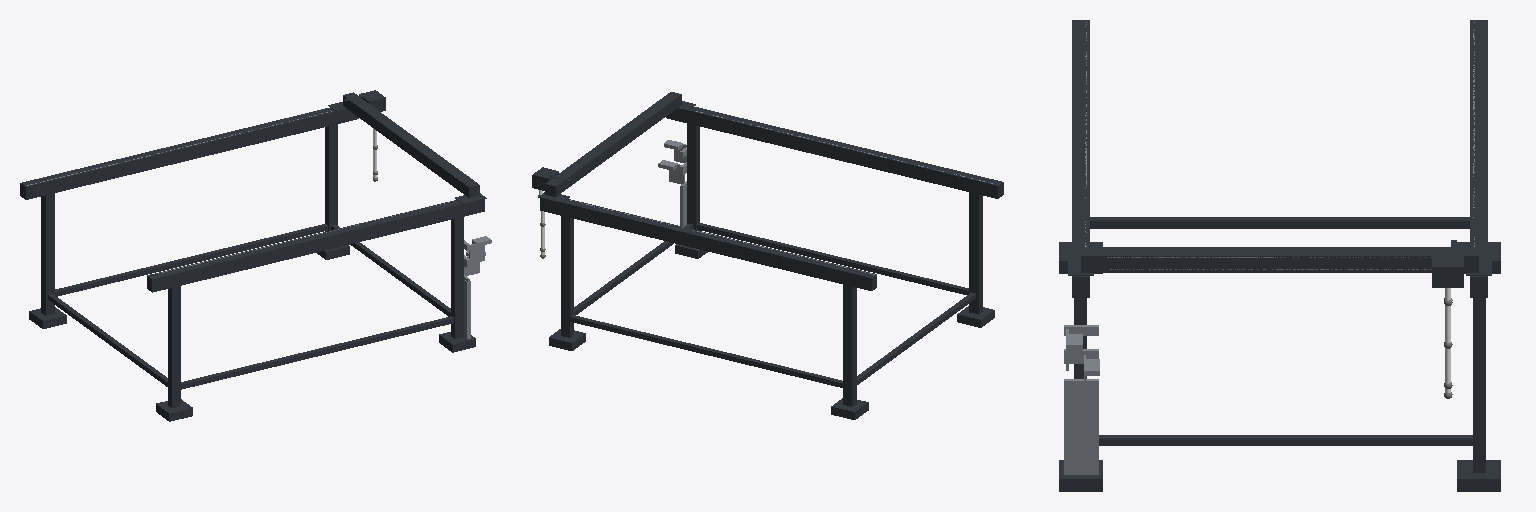
The robot description file, URDF, robot "paint_cell_8axis_x7y4z3":
<?xml version='1.0' encoding='utf-8'?>
<robot name="paint_cell_8axis_x7y4z3">
  <material name="cell_rail"><color rgba="0.55 0.57 0.60 1.0" /></material><material name="cell_frame"><color rgba="0.25 0.27 0.30 1.0" /></material><material name="black">
    <color rgba="0.0 0.0 0.0 1.0" />
  </material>
  <material name="white">
    <color rgba="1.0 1.0 1.0 1.0" />
  </material>
  <material name="orange">
    <color rgba="1.0 0.4 0.0 1.0" />
  </material>
  <material name="dr_gray">
    <color rgba="0.490 0.490 0.486 1.0" />
  </material>
  <material name="dr_white">
    <color rgba="0.941 0.941 0.941 1.0" />
  </material>
  <material name="dr_blue">
    <color rgba="0 0 0.15 1" />
  </material>
  <link name="base_link">
    <inertial>
      <mass value="3.635" />
      <origin xyz="4e-06   -0.001016     0.08181" />
      <inertia ixx="0.02216" ixy="5.8001e-06" ixz="6.1941e-06" iyy="0.024835" iyz="-5.3034e-05" izz="0.021063" />
    </inertial>
    <visual><origin xyz="0.000000 0.000000 0.097500" rpy="0.000000 0.000000 0.000000" /><geometry><cylinder length="0.195000" radius="0.035000" /></geometry><material name="dr_white" /></visual><visual><origin xyz="0.000000 0.000000 0.195000" rpy="0.000000 0.000000 0.000000" /><geometry><sphere radius="0.050000" /></geometry><material name="dr_gray" /></visual><visual><origin xyz="0.000000 0.000000 0.000000" rpy="0.000000 0.000000 0.000000" /><geometry><sphere radius="0.030000" /></geometry><material name="dr_gray" /></visual></link>
  
  <joint name="joint_1" type="revolute">
    <parent link="base_link" />
    <child link="link_1" />
    <origin rpy="0 0 0" xyz="0 0 0.195" />
    <axis xyz="0 0 1" />
    <limit effort="411" lower="-6.2832" upper="6.2832" velocity="3.1416" />
    <dynamics friction="0" />
  </joint>
  <link name="link_1">
    <inertial>
      <mass value="7.863" />
      <origin xyz="4.4e-05    0.029982    -0.01112" />
      <inertia ixx="0.045839" ixy="1.2759e-05" ixz="-3.6168e-05" iyy="0.032913" iyz="-0.0029965" izz="0.044399" />
    </inertial>
    <visual><origin xyz="0.000000 0.019500 0.000000" rpy="0.000000 1.570796 1.570796" /><geometry><cylinder length="0.039000" radius="0.035000" /></geometry><material name="dr_white" /></visual><visual><origin xyz="0.000000 0.039000 0.000000" rpy="0.000000 0.000000 0.000000" /><geometry><sphere radius="0.050000" /></geometry><material name="dr_gray" /></visual><visual><origin xyz="0.000000 0.000000 0.000000" rpy="0.000000 0.000000 0.000000" /><geometry><sphere radius="0.030000" /></geometry><material name="dr_gray" /></visual></link>
  
  <joint name="joint_2" type="revolute">
    <parent link="link_1" />
    <child link="link_2" />
    <origin rpy="0 -1.571 -1.571" xyz="0 0.039 0" />
    <axis xyz="0 0 1" />
    <limit effort="411" lower="-6.2832" upper="6.2832" velocity="3.1416" />
    <dynamics friction="0" />
  </joint>
  <link name="link_2">
    <inertial>
      <mass value="10.985" />
      <origin xyz="0.19748    0.001426     0.13191" />
      <inertia ixx="0.04446" ixy="-0.0049948" ixz="-0.010992" iyy="0.67642" iyz="-2.8483e-05" izz="0.67428" />
    </inertial>
    <visual><origin xyz="0.280000 0.000000 0.000000" rpy="0.000000 1.570796 0.000000" /><geometry><cylinder length="0.560000" radius="0.035000" /></geometry><material name="dr_white" /></visual><visual><origin xyz="0.560000 0.000000 0.000000" rpy="0.000000 0.000000 0.000000" /><geometry><sphere radius="0.050000" /></geometry><material name="dr_gray" /></visual><visual><origin xyz="0.000000 0.000000 0.000000" rpy="0.000000 0.000000 0.000000" /><geometry><sphere radius="0.030000" /></geometry><material name="dr_gray" /></visual></link>
  
  <joint name="joint_3" type="revolute">
    <parent link="link_2" />
    <child link="link_3" />
    <origin rpy="0 0 1.571" xyz="0.56 0 0" />
    <axis xyz="0 0 1" />
    <limit effort="194" lower="-2.7925" upper="2.7925" velocity="3.1416" />
    <dynamics friction="0" />
  </joint>
  <link name="link_3">
    <inertial>
      <mass value="2.881" />
      <origin xyz="8.5e-05   -0.002513    0.032058" />
      <inertia ixx="0.012756" ixy="-5.4257e-06" ixz="1.6402e-05" iyy="0.011416" iyz="-0.0001989" izz="0.0080652" />
    </inertial>
    <visual><origin xyz="0.000000 -0.258000 0.000000" rpy="0.000000 1.570796 -1.570796" /><geometry><cylinder length="0.516000" radius="0.035000" /></geometry><material name="dr_white" /></visual><visual><origin xyz="0.000000 -0.516000 0.000000" rpy="0.000000 0.000000 0.000000" /><geometry><sphere radius="0.050000" /></geometry><material name="dr_gray" /></visual><visual><origin xyz="0.000000 0.000000 0.000000" rpy="0.000000 0.000000 0.000000" /><geometry><sphere radius="0.030000" /></geometry><material name="dr_gray" /></visual></link>
  
  <joint name="joint_4" type="revolute">
    <parent link="link_3" />
    <child link="link_4" />
    <origin rpy="1.571 0 0" xyz="0 -0.516 0" />
    <axis xyz="0 0 1" />
    <limit effort="50" lower="-6.2832" upper="6.2832" velocity="6.2832" />
    <dynamics friction="0" />
  </joint>
  <link name="link_4">
    <inertial>
      <mass value="3.273" />
      <origin xyz="-9.6e-05    0.085314    -0.13975" />
      <inertia ixx="0.12246" ixy="2.3905e-05" ixz="2.5022e-05" iyy="0.11307" iyz="-0.027995" izz="0.017186" />
    </inertial>
    <visual><origin xyz="0.000000 0.000000 0.000000" rpy="0.000000 0.000000 0.000000" /><geometry><sphere radius="0.030000" /></geometry><material name="dr_gray" /></visual></link>
  
  <joint name="joint_5" type="revolute">
    <parent link="link_4" />
    <child link="link_5" />
    <origin rpy="-1.571 0 0" xyz="0 0 0" />
    <axis xyz="0 0 1" />
    <limit effort="50" lower="-6.2832" upper="6.2832" velocity="6.2832" />
    <dynamics friction="0" />
  </joint>
  <link name="link_5">
    <inertial>
      <mass value="2.141" />
      <origin xyz="0.000109   -0.003286     0.01477" />
      <inertia ixx="0.013145" ixy="-4.7132e-06" ixz="8.5804e-06" iyy="0.0073072" iyz="-5.999e-05" izz="0.0090476" />
    </inertial>
    <visual><origin xyz="0.000000 -0.062000 0.000000" rpy="0.000000 1.570796 -1.570796" /><geometry><cylinder length="0.124000" radius="0.035000" /></geometry><material name="dr_white" /></visual><visual><origin xyz="0.000000 -0.124000 0.000000" rpy="0.000000 0.000000 0.000000" /><geometry><sphere radius="0.050000" /></geometry><material name="dr_gray" /></visual><visual><origin xyz="0.000000 0.000000 0.000000" rpy="0.000000 0.000000 0.000000" /><geometry><sphere radius="0.030000" /></geometry><material name="dr_gray" /></visual></link>
  
  <joint name="joint_6" type="revolute">
    <parent link="link_5" />
    <child link="link_6" />
    <origin rpy="1.571 0 0" xyz="0 -0.124 0" />
    <axis xyz="0 0 1" />
    <limit effort="50" lower="-6.2832" upper="6.2832" velocity="6.2832" />
    <dynamics friction="0" />
  </joint>
  <link name="link_6">
    <inertial>
      <mass value="0.784" />
      <origin xyz="-1.9e-05      -6e-06    -0.05227" />
      <inertia ixx="0.0067403" ixy="5.2373e-06" ixz="2.4957e-06" iyy="0.0048015" iyz="8.3671e-06" izz="0.0059696" />
    </inertial>
    <visual><origin xyz="0.000000 0.000000 0.000000" rpy="0.000000 0.000000 0.000000" /><geometry><sphere radius="0.030000" /></geometry><material name="dr_gray" /></visual></link>
<link name="world_base"><visual><origin xyz="-2.977000 -2.300000 0.082500" rpy="0.000000 0.000000 0.000000" /><geometry><box size="0.500000 0.500000 0.165000" /></geometry><material name="cell_frame" /></visual><visual><origin xyz="-2.977000 -2.300000 1.381750" rpy="0.000000 0.000000 0.000000" /><geometry><box size="0.194000 0.150000 2.433500" /></geometry><material name="cell_frame" /></visual><visual><origin xyz="-2.977000 2.300000 0.082500" rpy="0.000000 0.000000 0.000000" /><geometry><box size="0.500000 0.500000 0.165000" /></geometry><material name="cell_frame" /></visual><visual><origin xyz="-2.977000 2.300000 1.381750" rpy="0.000000 0.000000 0.000000" /><geometry><box size="0.194000 0.150000 2.433500" /></geometry><material name="cell_frame" /></visual><visual><origin xyz="2.977000 -2.300000 0.082500" rpy="0.000000 0.000000 0.000000" /><geometry><box size="0.500000 0.500000 0.165000" /></geometry><material name="cell_frame" /></visual><visual><origin xyz="2.977000 -2.300000 1.381750" rpy="0.000000 0.000000 0.000000" /><geometry><box size="0.194000 0.150000 2.433500" /></geometry><material name="cell_frame" /></visual><visual><origin xyz="2.977000 2.300000 0.082500" rpy="0.000000 0.000000 0.000000" /><geometry><box size="0.500000 0.500000 0.165000" /></geometry><material name="cell_frame" /></visual><visual><origin xyz="2.977000 2.300000 1.381750" rpy="0.000000 0.000000 0.000000" /><geometry><box size="0.194000 0.150000 2.433500" /></geometry><material name="cell_frame" /></visual><visual><origin xyz="0.000000 -2.300000 2.732500" rpy="0.000000 0.000000 0.000000" /><geometry><box size="7.000000 0.200000 0.268000" /></geometry><material name="cell_frame" /></visual><visual><origin xyz="0.000000 -2.238500 2.855500" rpy="0.000000 0.000000 0.000000" /><geometry><box size="7.000000 0.023000 0.022000" /></geometry><material name="cell_rail" /></visual><visual><origin xyz="0.000000 2.300000 2.732500" rpy="0.000000 0.000000 0.000000" /><geometry><box size="7.000000 0.200000 0.268000" /></geometry><material name="cell_frame" /></visual><visual><origin xyz="0.000000 2.238500 2.855500" rpy="0.000000 0.000000 0.000000" /><geometry><box size="7.000000 0.023000 0.022000" /></geometry><material name="cell_rail" /></visual><visual><origin xyz="0.000000 -2.300000 0.531000" rpy="0.000000 0.000000 0.000000" /><geometry><box size="5.760000 0.100000 0.100000" /></geometry><material name="cell_frame" /></visual><visual><origin xyz="0.000000 2.300000 0.531000" rpy="0.000000 0.000000 0.000000" /><geometry><box size="5.760000 0.100000 0.100000" /></geometry><material name="cell_frame" /></visual><visual><origin xyz="-2.977000 0.000000 0.531000" rpy="0.000000 0.000000 0.000000" /><geometry><box size="0.100000 4.450000 0.100000" /></geometry><material name="cell_frame" /></visual><visual><origin xyz="2.977000 0.000000 0.531000" rpy="0.000000 0.000000 0.000000" /><geometry><box size="0.100000 4.450000 0.100000" /></geometry><material name="cell_frame" /></visual><visual><origin xyz="3.437000 -2.173000 1.673986" rpy="0.000000 0.000000 0.000000" /><geometry><box size="0.310000 0.190000 0.073000" /></geometry><material name="cell_rail" /></visual><visual><origin xyz="3.104000 -2.293000 1.340500" rpy="0.000000 0.000000 0.000000" /><geometry><box size="0.050000 0.400000 0.050000" /></geometry><material name="cell_rail" /></visual><visual><origin xyz="3.104000 -2.293000 1.667486" rpy="0.000000 0.000000 0.000000" /><geometry><box size="0.070000 0.400000 0.162430" /></geometry><material name="cell_rail" /></visual><visual><origin xyz="3.104000 -2.293000 1.994473" rpy="0.000000 0.000000 0.000000" /><geometry><box size="0.070000 0.400000 0.110000" /></geometry><material name="cell_rail" /></visual><visual><origin xyz="3.298100 -2.253000 1.478387" rpy="0.000000 0.000000 0.000000" /><geometry><box size="0.318198 0.030000 0.318198" /></geometry><material name="cell_rail" /></visual><visual><origin xyz="3.364000 -2.253000 1.667486" rpy="0.000000 0.000000 0.000000" /><geometry><box size="0.450000 0.030000 0.060000" /></geometry><material name="cell_rail" /></visual><visual><origin xyz="3.437000 -2.373000 2.000973" rpy="0.000000 0.000000 0.000000" /><geometry><box size="0.310000 0.190000 0.073000" /></geometry><material name="cell_rail" /></visual><visual><origin xyz="3.298100 -2.453000 1.805374" rpy="0.000000 0.000000 0.000000" /><geometry><box size="0.318198 0.030000 0.318198" /></geometry><material name="cell_rail" /></visual><visual><origin xyz="3.364000 -2.453000 1.994473" rpy="0.000000 0.000000 0.000000" /><geometry><box size="0.450000 0.030000 0.060000" /></geometry><material name="cell_rail" /></visual><visual><origin xyz="3.104000 -2.293000 0.657750" rpy="0.000000 0.000000 0.000000" /><geometry><box size="0.070000 0.400000 1.315500" /></geometry><material name="cell_rail" /></visual><collision><origin xyz="-2.977000 -2.300000 0.082500" rpy="0.000000 0.000000 0.000000" /><geometry><box size="0.500000 0.500000 0.165000" /></geometry></collision><collision><origin xyz="-2.977000 -2.300000 1.381750" rpy="0.000000 0.000000 0.000000" /><geometry><box size="0.194000 0.150000 2.433500" /></geometry></collision><collision><origin xyz="-2.977000 2.300000 0.082500" rpy="0.000000 0.000000 0.000000" /><geometry><box size="0.500000 0.500000 0.165000" /></geometry></collision><collision><origin xyz="-2.977000 2.300000 1.381750" rpy="0.000000 0.000000 0.000000" /><geometry><box size="0.194000 0.150000 2.433500" /></geometry></collision><collision><origin xyz="2.977000 -2.300000 0.082500" rpy="0.000000 0.000000 0.000000" /><geometry><box size="0.500000 0.500000 0.165000" /></geometry></collision><collision><origin xyz="2.977000 -2.300000 1.381750" rpy="0.000000 0.000000 0.000000" /><geometry><box size="0.194000 0.150000 2.433500" /></geometry></collision><collision><origin xyz="2.977000 2.300000 0.082500" rpy="0.000000 0.000000 0.000000" /><geometry><box size="0.500000 0.500000 0.165000" /></geometry></collision><collision><origin xyz="2.977000 2.300000 1.381750" rpy="0.000000 0.000000 0.000000" /><geometry><box size="0.194000 0.150000 2.433500" /></geometry></collision><collision><origin xyz="0.000000 -2.300000 2.732500" rpy="0.000000 0.000000 0.000000" /><geometry><box size="7.000000 0.200000 0.268000" /></geometry></collision><collision><origin xyz="0.000000 -2.238500 2.855500" rpy="0.000000 0.000000 0.000000" /><geometry><box size="7.000000 0.023000 0.022000" /></geometry></collision><collision><origin xyz="0.000000 2.300000 2.732500" rpy="0.000000 0.000000 0.000000" /><geometry><box size="7.000000 0.200000 0.268000" /></geometry></collision><collision><origin xyz="0.000000 2.238500 2.855500" rpy="0.000000 0.000000 0.000000" /><geometry><box size="7.000000 0.023000 0.022000" /></geometry></collision><collision><origin xyz="0.000000 -2.300000 0.531000" rpy="0.000000 0.000000 0.000000" /><geometry><box size="5.760000 0.100000 0.100000" /></geometry></collision><collision><origin xyz="0.000000 2.300000 0.531000" rpy="0.000000 0.000000 0.000000" /><geometry><box size="5.760000 0.100000 0.100000" /></geometry></collision><collision><origin xyz="-2.977000 0.000000 0.531000" rpy="0.000000 0.000000 0.000000" /><geometry><box size="0.100000 4.450000 0.100000" /></geometry></collision><collision><origin xyz="2.977000 0.000000 0.531000" rpy="0.000000 0.000000 0.000000" /><geometry><box size="0.100000 4.450000 0.100000" /></geometry></collision><collision><origin xyz="3.437000 -2.173000 1.673986" rpy="0.000000 0.000000 0.000000" /><geometry><box size="0.310000 0.190000 0.073000" /></geometry></collision><collision><origin xyz="3.104000 -2.293000 1.340500" rpy="0.000000 0.000000 0.000000" /><geometry><box size="0.050000 0.400000 0.050000" /></geometry></collision><collision><origin xyz="3.104000 -2.293000 1.667486" rpy="0.000000 0.000000 0.000000" /><geometry><box size="0.070000 0.400000 0.162430" /></geometry></collision><collision><origin xyz="3.104000 -2.293000 1.994473" rpy="0.000000 0.000000 0.000000" /><geometry><box size="0.070000 0.400000 0.110000" /></geometry></collision><collision><origin xyz="3.298100 -2.253000 1.478387" rpy="0.000000 0.000000 0.000000" /><geometry><box size="0.318198 0.030000 0.318198" /></geometry></collision><collision><origin xyz="3.364000 -2.253000 1.667486" rpy="0.000000 0.000000 0.000000" /><geometry><box size="0.450000 0.030000 0.060000" /></geometry></collision><collision><origin xyz="3.437000 -2.373000 2.000973" rpy="0.000000 0.000000 0.000000" /><geometry><box size="0.310000 0.190000 0.073000" /></geometry></collision><collision><origin xyz="3.298100 -2.453000 1.805374" rpy="0.000000 0.000000 0.000000" /><geometry><box size="0.318198 0.030000 0.318198" /></geometry></collision><collision><origin xyz="3.364000 -2.453000 1.994473" rpy="0.000000 0.000000 0.000000" /><geometry><box size="0.450000 0.030000 0.060000" /></geometry></collision><collision><origin xyz="3.104000 -2.293000 0.657750" rpy="0.000000 0.000000 0.000000" /><geometry><box size="0.070000 0.400000 1.315500" /></geometry></collision><collision><origin xyz="3.331100 -2.101900 1.712700" rpy="0.000000 0.000000 0.000000" /><geometry><box size="0.102000 0.080000 0.044000" /></geometry></collision><collision><origin xyz="3.531100 -2.101900 1.712700" rpy="0.000000 0.000000 0.000000" /><geometry><box size="0.102000 0.080000 0.044000" /></geometry></collision><collision><origin xyz="3.331100 -2.301900 2.039700" rpy="0.000000 0.000000 0.000000" /><geometry><box size="0.102000 0.080000 0.044000" /></geometry></collision></link><link name="gantry_x_link"><inertial><mass value="180.0" /><origin xyz="-0.084084 0.000000 0.000000" rpy="0.000000 0.000000 0.000000" /><inertia ixx="318.09" ixy="0" ixz="0" iyy="1.49" iyz="0" izz="318.19" /></inertial><visual><origin xyz="-0.084084 0.000000 0.000000" rpy="0.000000 0.000000 0.000000" /><geometry><box size="0.230000 4.600000 0.215000" /></geometry><material name="cell_frame" /></visual><visual><origin xyz="0.019916 0.000000 -0.069000" rpy="0.000000 0.000000 0.000000" /><geometry><box size="0.022000 4.000000 0.023000" /></geometry><material name="cell_rail" /></visual><visual><origin xyz="0.019916 0.000000 0.084000" rpy="0.000000 0.000000 0.000000" /><geometry><box size="0.022000 4.000000 0.023000" /></geometry><material name="cell_rail" /></visual><visual><origin xyz="-0.164084 -2.300000 -0.115000" rpy="0.000000 0.000000 0.000000" /><geometry><box size="0.500000 0.300000 0.015000" /></geometry><material name="cell_frame" /></visual><visual><origin xyz="-0.164084 2.300000 -0.115000" rpy="0.000000 0.000000 0.000000" /><geometry><box size="0.500000 0.300000 0.015000" /></geometry><material name="cell_frame" /></visual><collision><origin xyz="-0.084084 0.000000 0.000000" rpy="0.000000 0.000000 0.000000" /><geometry><box size="0.230000 4.600000 0.215000" /></geometry></collision><collision><origin xyz="0.019916 0.000000 -0.069000" rpy="0.000000 0.000000 0.000000" /><geometry><box size="0.022000 4.000000 0.023000" /></geometry></collision><collision><origin xyz="0.019916 0.000000 0.084000" rpy="0.000000 0.000000 0.000000" /><geometry><box size="0.022000 4.000000 0.023000" /></geometry></collision><collision><origin xyz="-0.164084 -2.300000 -0.115000" rpy="0.000000 0.000000 0.000000" /><geometry><box size="0.500000 0.300000 0.015000" /></geometry></collision><collision><origin xyz="-0.164084 2.300000 -0.115000" rpy="0.000000 0.000000 0.000000" /><geometry><box size="0.500000 0.300000 0.015000" /></geometry></collision></link><joint name="gantry_x" type="prismatic"><parent link="world_base" /><child link="gantry_x_link" /><origin xyz="3.413200 0.000000 3.000000" rpy="0.000000 0.000000 0.000000" /><axis xyz="-1 0 0" /><limit effort="2000" lower="0.000000" upper="6.826400" velocity="1.5" /></joint><link name="gantry_y_link"><inertial><mass value="160.0" /><origin xyz="0.217416 0.000000 0.002500" rpy="0.000000 0.000000 0.000000" /><inertia ixx="2.80" ixy="0" ixz="0" iyy="2.65" iyz="0" izz="3.51" /></inertial><visual><origin xyz="0.217416 0.000000 0.002500" rpy="0.000000 0.000000 0.000000" /><geometry><box size="0.355000 0.370000 0.270000" /></geometry><material name="cell_frame" /></visual><visual><origin xyz="-0.107084 0.067500 0.140000" rpy="0.000000 0.000000 0.000000" /><geometry><box size="0.450000 0.060000 0.005000" /></geometry><material name="cell_frame" /></visual><collision><origin xyz="0.217416 0.000000 0.002500" rpy="0.000000 0.000000 0.000000" /><geometry><box size="0.355000 0.370000 0.270000" /></geometry></collision><collision><origin xyz="-0.107084 0.067500 0.140000" rpy="0.000000 0.000000 0.000000" /><geometry><box size="0.450000 0.060000 0.005000" /></geometry></collision></link><joint name="gantry_y" type="prismatic"><parent link="gantry_x_link" /><child link="gantry_y_link" /><origin xyz="0.000000 1.943200 0.000000" rpy="0.000000 0.000000 0.000000" /><axis xyz="0 -1 0" /><limit effort="2000" lower="0.000000" upper="3.886400" velocity="1.5" /></joint><joint name="gantry_to_arm" type="fixed"><parent link="gantry_y_link" /><child link="base_link" /><origin xyz="0.323040 0.000000 -0.153000" rpy="3.141593 0.000000 -1.570796" /></joint><link name="tool_assy"><visual><origin xyz="0 0 0" rpy="0 0 0" /><geometry><mesh filename="package://paint_viz/urdf/tool_assy.stl" /></geometry><material name="dr_gray" /></visual><collision><origin xyz="-0.010000 -0.012000 0.030000" rpy="0.000000 0.000000 0.000000" /><geometry><box size="0.092000 0.104000 0.062000" /></geometry></collision><collision><origin xyz="-0.014000 0.007000 0.083000" rpy="0.000000 0.000000 0.000000" /><geometry><box size="0.082000 0.086000 0.066000" /></geometry></collision><collision><origin xyz="0.021000 -0.024000 0.175000" rpy="0.000000 0.000000 0.000000" /><geometry><box size="0.152000 0.178000 0.122000" /></geometry></collision><collision><origin xyz="0.065000 -0.054000 0.262000" rpy="0.000000 0.000000 0.000000" /><geometry><box size="0.099000 0.070000 0.058000" /></geometry></collision></link><joint name="flange_to_tool" type="fixed"><parent link="link_6" /><child link="tool_assy" /><origin xyz="0.000000 0.000000 0.000000" rpy="0.000000 0.000000 0.000000" /></joint><link name="spray_gun"><visual><origin xyz="0 0 0" rpy="0 0 0" /><geometry><mesh filename="package://paint_viz/urdf/spray_gun.stl" /></geometry><material name="dr_gray" /></visual><collision><origin xyz="0.088000 0.019000 -0.030000" rpy="0.000000 0.000000 0.000000" /><geometry><box size="0.301000 0.111000 0.127000" /></geometry></collision><collision><origin xyz="-0.012000 0.017000 -0.140000" rpy="0.000000 0.000000 0.000000" /><geometry><box size="0.138000 0.026000 0.102000" /></geometry></collision></link><joint name="tool_to_gun" type="fixed"><parent link="link_6" /><child link="spray_gun" /><origin xyz="0.129200 -0.060700 0.296900" rpy="0.000000 0.000000 0.000000" /></joint><link name="tcp" /><joint name="spray_gun_to_tcp" type="fixed"><parent link="spray_gun" /><child link="tcp" /><origin xyz="0.000000 0.000000 0.000000" rpy="0.000000 0.000000 0.000000" /></joint><link name="toolchanger_slot_1" /><joint name="world_base_to_toolchanger_slot_1" type="fixed"><parent link="world_base" /><child link="toolchanger_slot_1" /><origin xyz="3.331100 -2.101900 1.734700" rpy="0.000000 0.000000 0.000000" /></joint><link name="toolchanger_slot_2" /><joint name="world_base_to_toolchanger_slot_2" type="fixed"><parent link="world_base" /><child link="toolchanger_slot_2" /><origin xyz="3.531100 -2.101900 1.734700" rpy="0.000000 0.000000 0.000000" /></joint><link name="toolchanger_slot_3" /><joint name="world_base_to_toolchanger_slot_3" type="fixed"><parent link="world_base" /><child link="toolchanger_slot_3" /><origin xyz="3.331100 -2.301900 2.061700" rpy="0.000000 0.000000 0.000000" /></joint><link name="toolchanger_slot_4" /><joint name="world_base_to_toolchanger_slot_4" type="fixed"><parent link="world_base" /><child link="toolchanger_slot_4" /><origin xyz="3.531100 -2.301900 2.061700" rpy="0.000000 0.000000 0.000000" /></joint></robot>

--- What the picture shows (computed from the rendered views, not written in the file) ---
3 views of the same robot in one strip: view 1: azimuth 30°, elevation 25°; view 2: azimuth 150°, elevation 25°; view 3: azimuth 270°, elevation 25° (orthographic).
Robot: paint_cell_8axis_x7y4z3 — 17 links, 16 joints (6 revolute, 2 prismatic, 8 fixed); root link world_base; default pose: all joints at 0.
Links seen in each view (by area): view 1: world_base, gantry_x_link; view 2: world_base, gantry_x_link; view 3: world_base, gantry_x_link, gantry_y_link.
Link boxes in pixels (x1,y1,x2,y2): world_base: (20,108,491,421); gantry_x_link: (328,92,486,203); world_base: (540,107,1003,419); gantry_x_link: (538,92,695,202); world_base: (1059,20,1500,491); gantry_x_link: (1068,247,1491,275); gantry_y_link: (1432,240,1463,287).
Bounding box of the posed robot: 7.31 × 5.1 × 3.14 m (x, y, z).
0 mesh visuals loaded from 2 distinct referenced files (none loaded); not drawn: 2 (reference not matched to a file when rendering).
